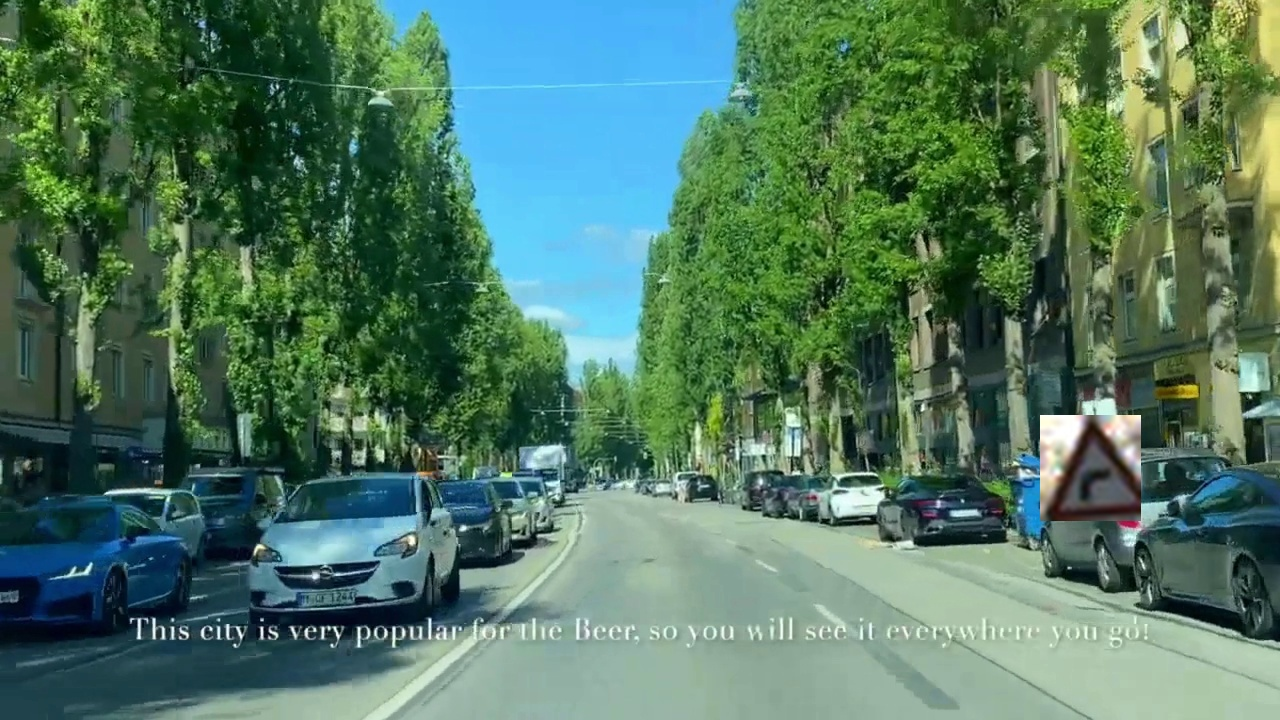Curve right: (1040, 415, 1141, 521)
